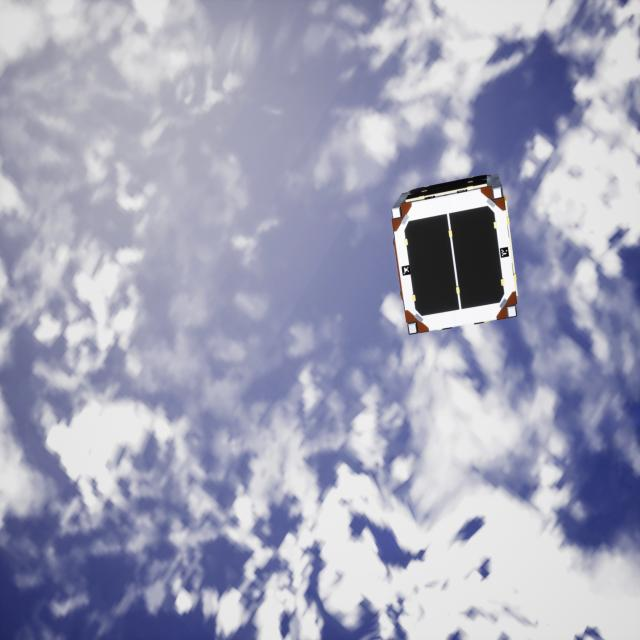medium_debris: (389, 167, 520, 338)
